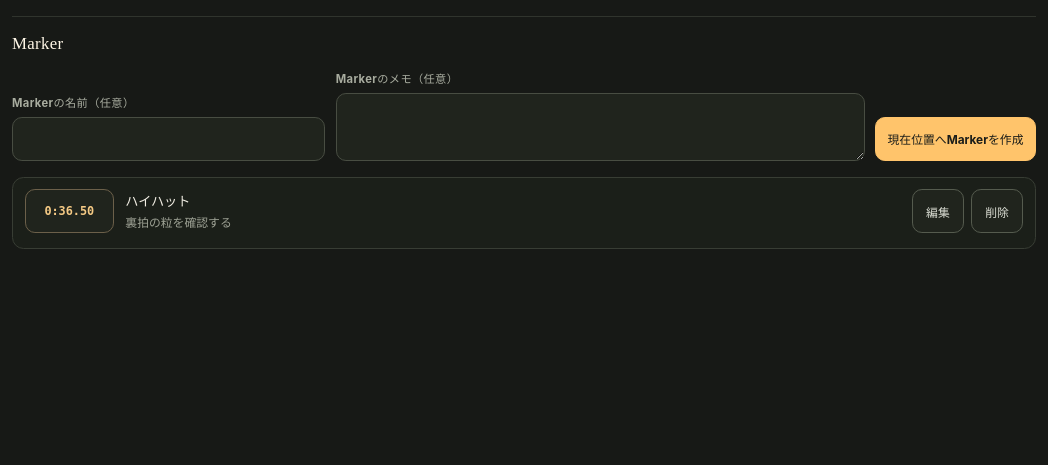
Test: MarkerPanel Story 0006 contract › edits text and adopts the current position only after an explicit action
This screenshot has width=1048, height=465.
Click the button with aria-label "0:36.50のMarkerを編集". click: click(938, 211)
box: [912,189,964,233]
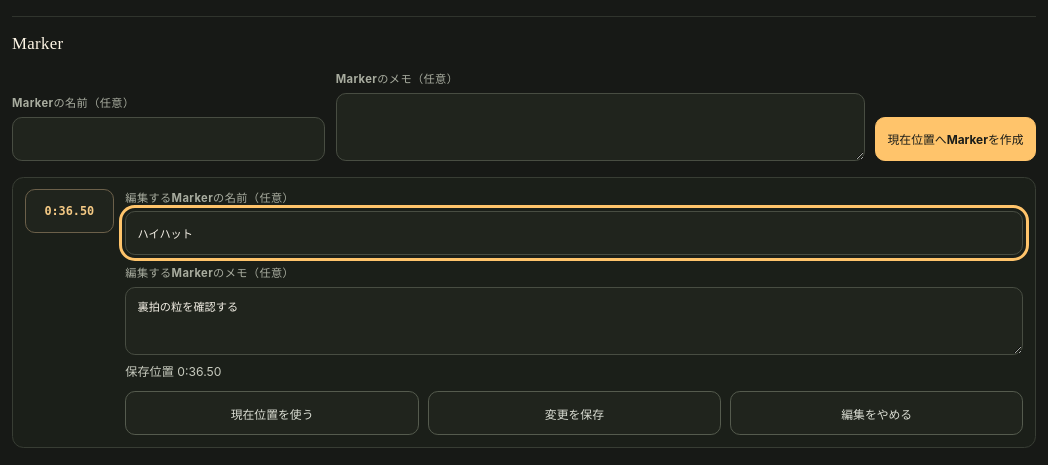
Replace the text in the field labelled "編集するMarkerの名前（任意）" with "  スネア  ". click: (574, 234)
box: [125,212,1024,256]
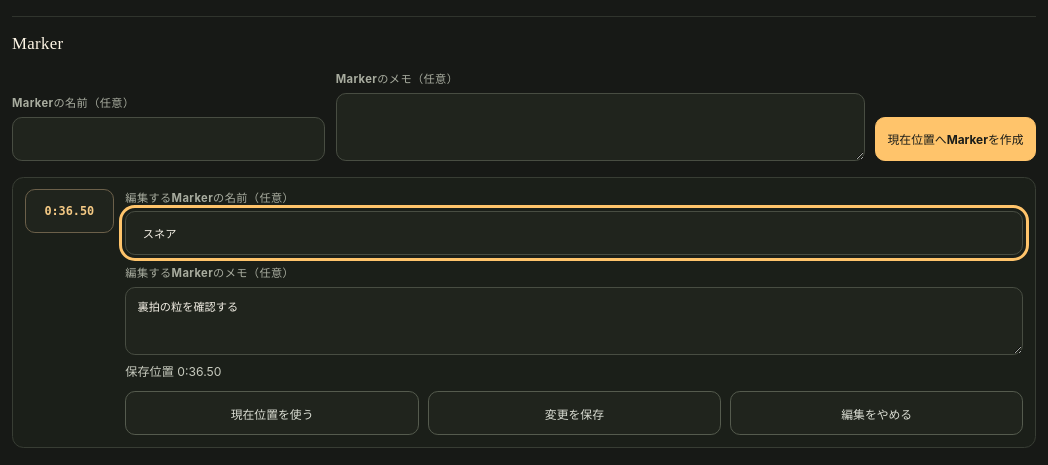
Replace the text in the text box labelled "編集するMarkerのメモ（任意）" with "  ゴーストノート  ". click: (574, 321)
box: [125,287,1024,355]
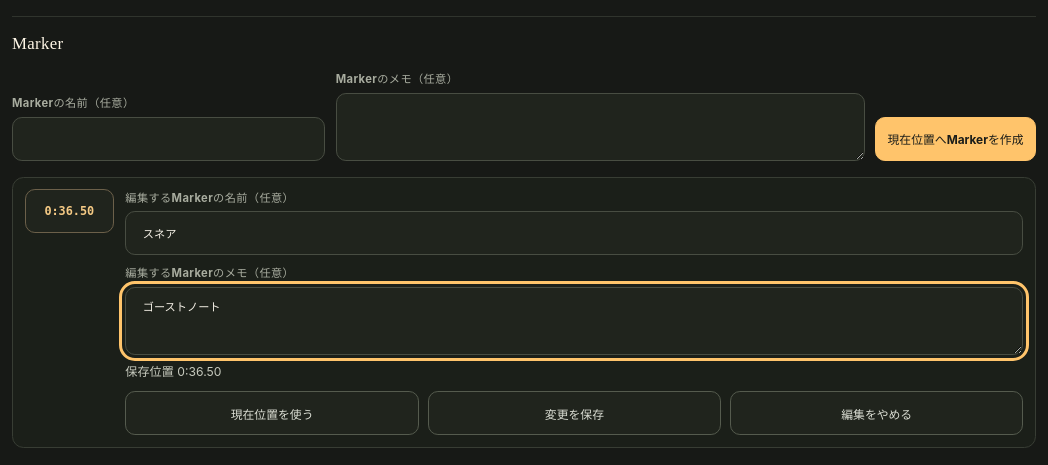
Click the button "現在位置を使う". click: click(272, 413)
box: [125,391,419,435]
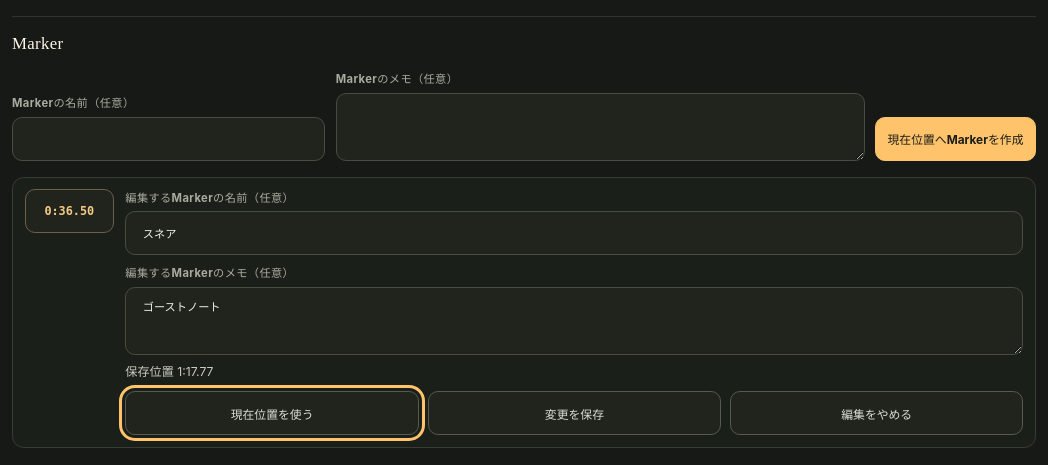
expect the text "保存位置 1:17.77" is shown: met, box [125,364,213,380]
Click the button "変更を保存". click: click(574, 413)
box: [428,391,721,435]
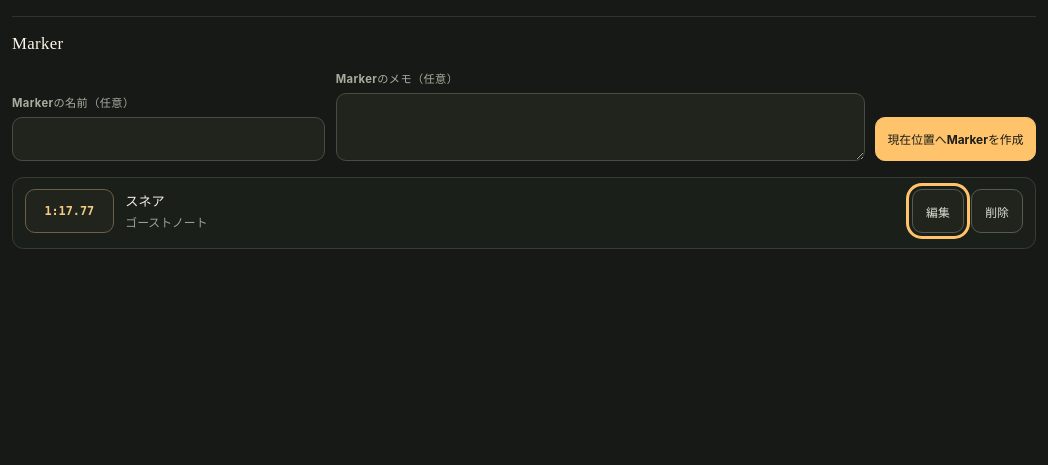
expect the button named "1:17.77へ移動" is shown: met, box [24,189,114,233]
